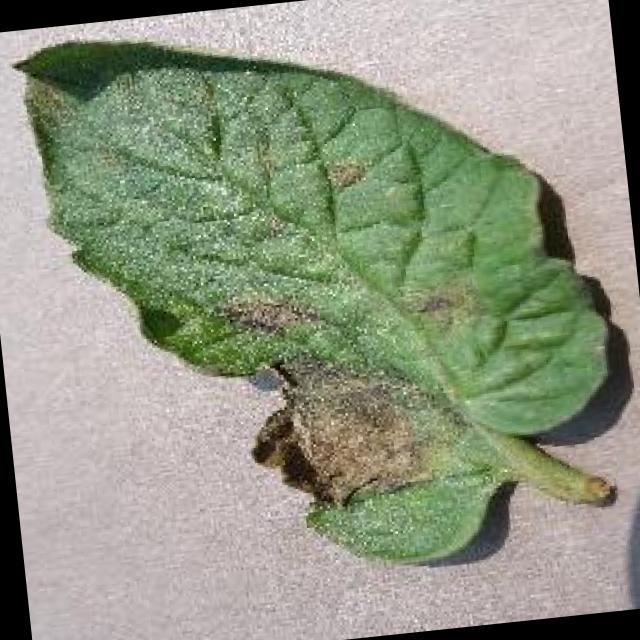Tomato_Late_Blight: (226, 276, 472, 525)
